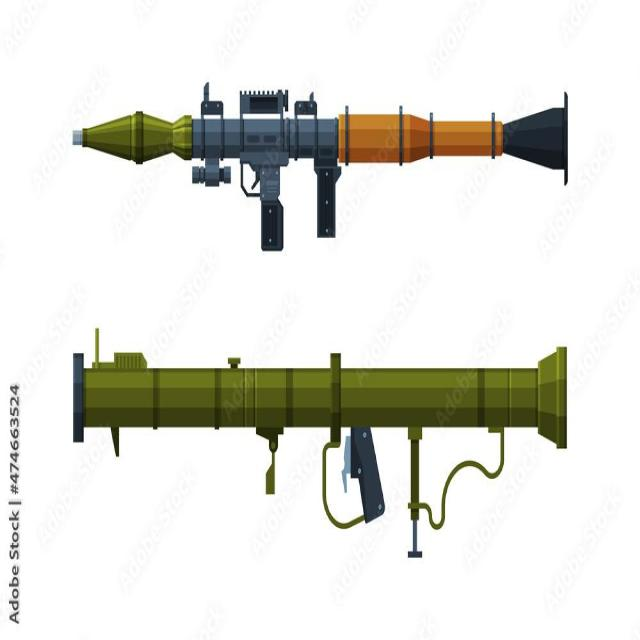weapon: (64, 325, 581, 571), (63, 84, 589, 266)
